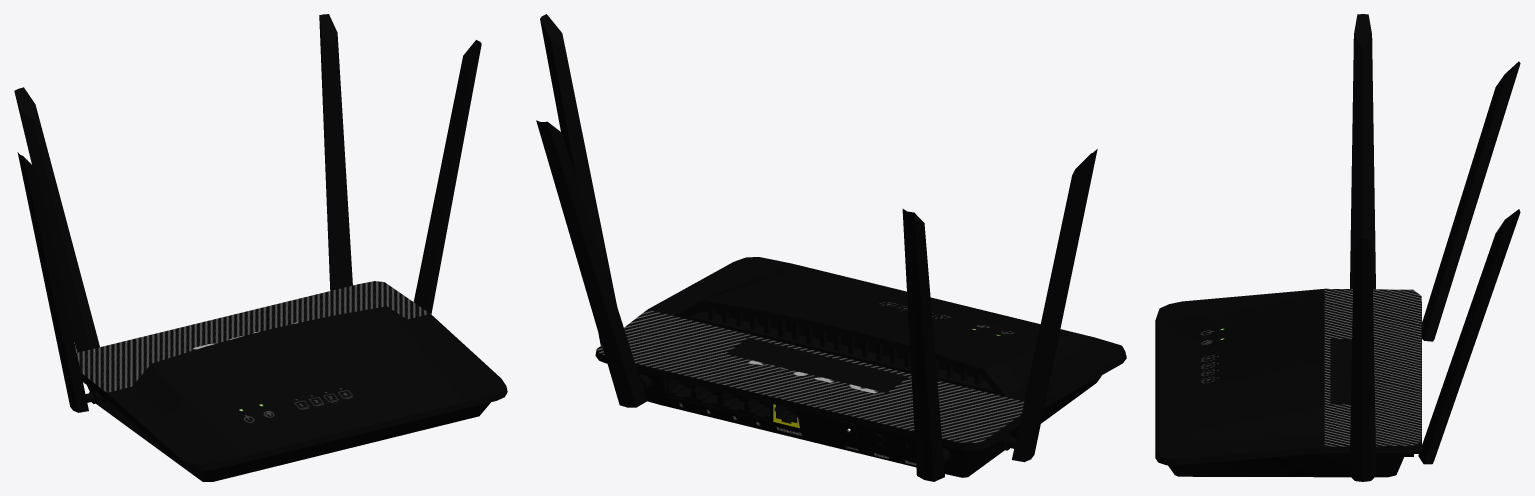
File: dev-router_lod2.glb
3 views of the same model, side by side, from view 1: azimuth 30°, elevation 25°; view 2: azimuth 150°, elevation 25°; view 3: azimuth 270°, elevation 25° (orthographic). The views are drawn at different scales.
Visible parts, largest first — view 1: body; view 2: body; view 3: body.
Boxes of the visible parts, x1,y1,x2,y2 form: body: (14,14,507,481); body: (536,14,1126,481); body: (1155,14,1520,481).
Size of the model in its own units: 0.3 by 0.1781 by 0.2057.
Materials: 6 (2 with a texture image).
